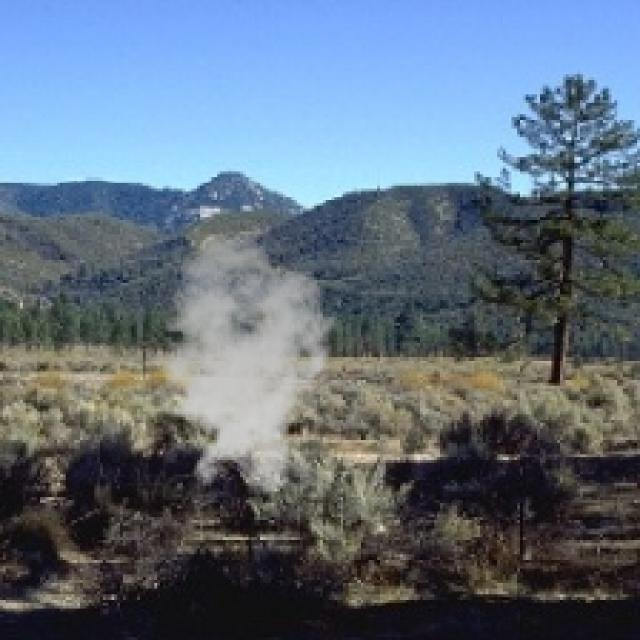Smoke: (140, 232, 343, 497)
